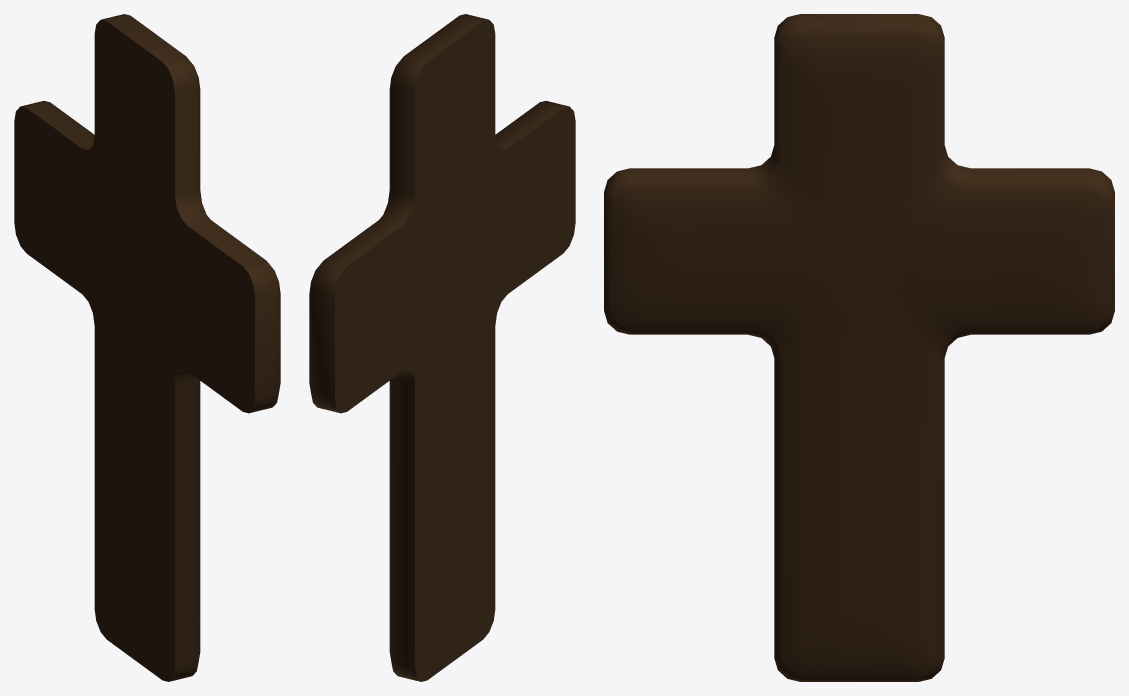
The model's file is Cross.glb.
3 views of the same model, side by side, from view 1: azimuth 30°, elevation 25°; view 2: azimuth 150°, elevation 25°; view 3: azimuth 270°, elevation 25° (orthographic). The views are drawn at different scales.
Visible parts, largest first — view 1: wall_cross; view 2: wall_cross; view 3: wall_cross.
Part boxes in pixels (bbox=[...]): wall_cross: bbox=[14, 14, 280, 681]; wall_cross: bbox=[309, 14, 575, 681]; wall_cross: bbox=[604, 14, 1114, 681].
Size of the model in its own units: 0.1517 by 2.62 by 1.85.
